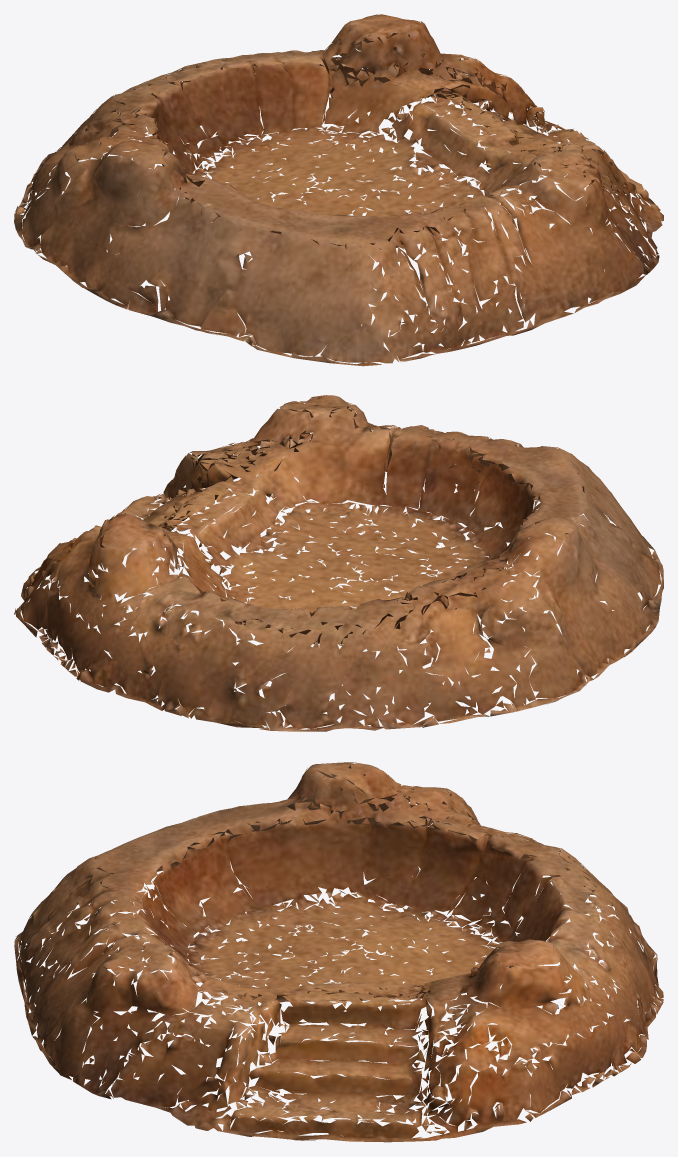
The model's file is claypit_far.glb.
3 renders of one model, top to bottom at view 1: azimuth 30°, elevation 25°; view 2: azimuth 150°, elevation 25°; view 3: azimuth 270°, elevation 25°, orthographic. The views are drawn at different scales.
Parts seen in each view (by area): view 1: model; view 2: model; view 3: model.
Boxes of the visible parts, <box> form: model: <box>14,14,663,366</box>; model: <box>14,395,663,731</box>; model: <box>14,762,663,1142</box>.
Size of the model in its own units: 0.9985 by 0.2322 by 0.9852.
1 material, 1 textured.
